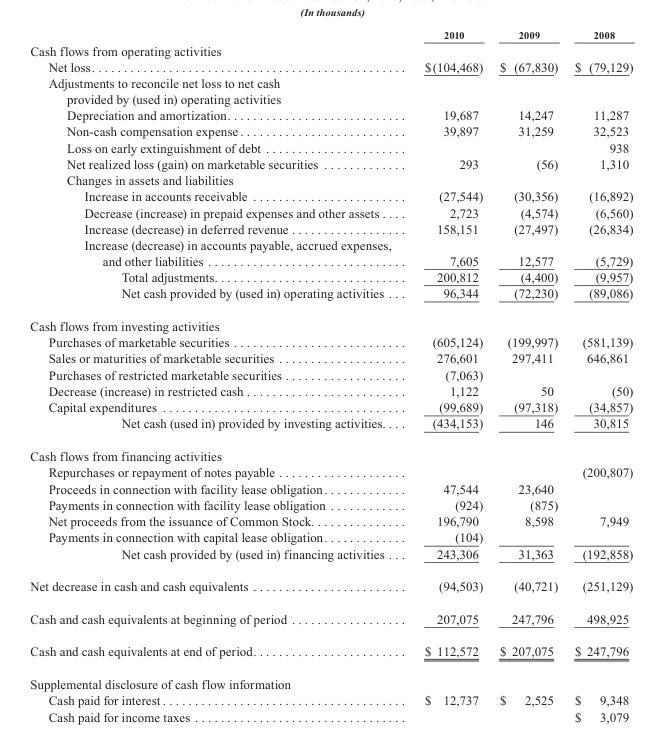table: (29, 29, 632, 723)
table column: (29, 29, 404, 723), (404, 29, 490, 723), (490, 29, 565, 723), (565, 29, 632, 723)
table column header: (29, 29, 632, 41)
table projected row header: (29, 309, 632, 333), (29, 439, 632, 463), (29, 667, 632, 691), (29, 41, 632, 58), (29, 74, 632, 90), (29, 90, 632, 106), (29, 171, 632, 187), (29, 236, 632, 252)
table row: (29, 569, 632, 602), (29, 634, 632, 667), (29, 602, 632, 634), (29, 284, 632, 309), (29, 414, 632, 439), (29, 309, 632, 333), (29, 439, 632, 463), (29, 545, 632, 569), (29, 667, 632, 691), (29, 41, 632, 58), (29, 122, 632, 139), (29, 187, 632, 204), (29, 349, 632, 366), (29, 463, 632, 480), (29, 528, 632, 545), (29, 691, 632, 708), (29, 58, 632, 74), (29, 74, 632, 90), (29, 90, 632, 106), (29, 106, 632, 122), (29, 139, 632, 155), (29, 155, 632, 171), (29, 171, 632, 187), (29, 204, 632, 220), (29, 220, 632, 236), (29, 236, 632, 252), (29, 252, 632, 268), (29, 268, 632, 284), (29, 333, 632, 349), (29, 366, 632, 382), (29, 382, 632, 398), (29, 398, 632, 414), (29, 480, 632, 496), (29, 496, 632, 512), (29, 512, 632, 528), (29, 708, 632, 723), (29, 29, 632, 41)
